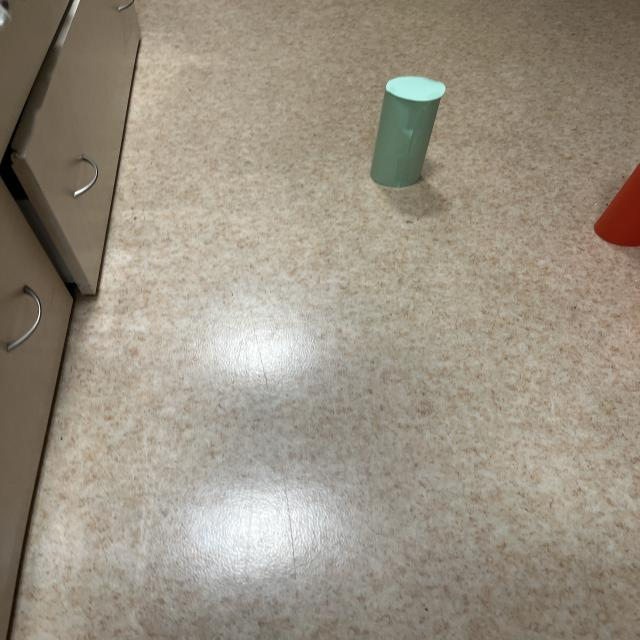meta: (370, 76, 445, 187)
